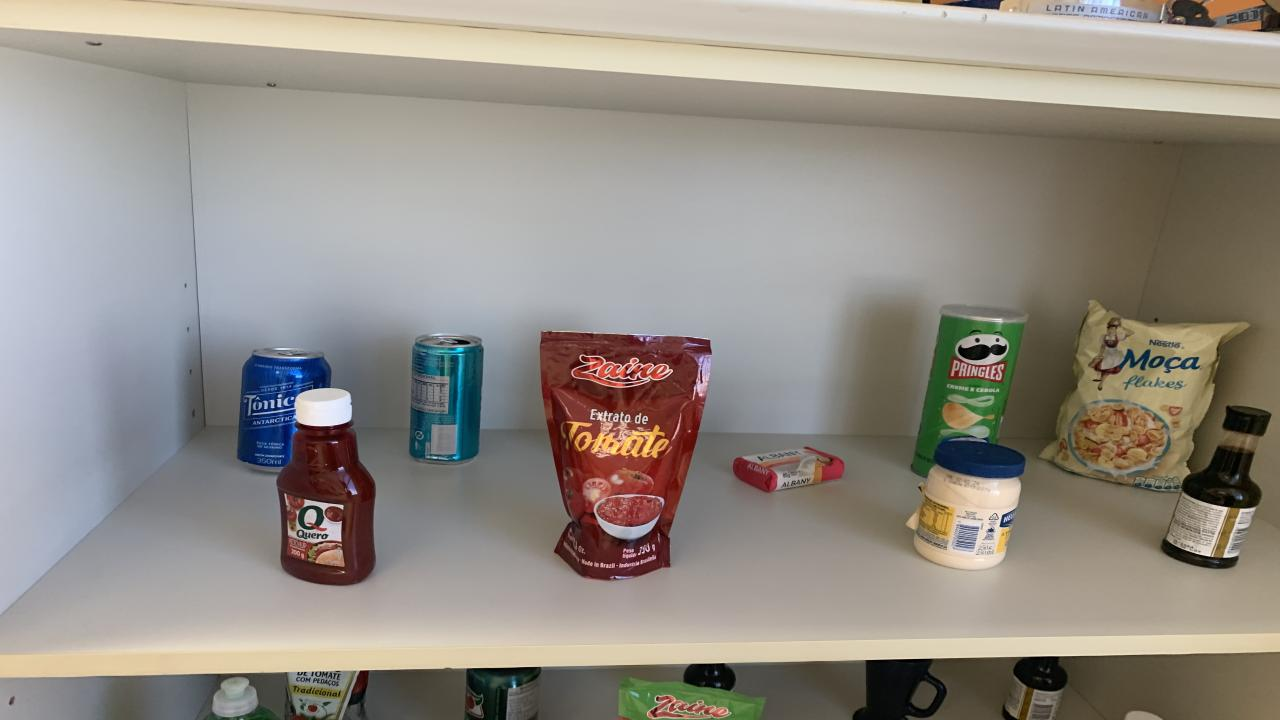Detergent-Cleanup_Items: (205, 677, 278, 720)
English_Sauce-Pantry_Items: (1162, 407, 1270, 568), (1002, 656, 1068, 720)
Flakes-Snacks: (1040, 300, 1248, 491)
Guarana_Can-Drinks: (465, 668, 540, 720)
Ketchup-Pantry_Items: (278, 388, 375, 585)
Mayonnaise-Pantry_Items: (908, 441, 1025, 570)
Pringles-Snacks: (910, 304, 1028, 476)
Soap-Cleanup_Items: (732, 446, 845, 491)
Tea-Drinks: (410, 334, 482, 463)
Tomato_Sauce-Pantry_Items: (540, 332, 710, 579), (618, 677, 765, 720), (285, 671, 368, 720)
Tonic-Drinks: (238, 347, 330, 472)
